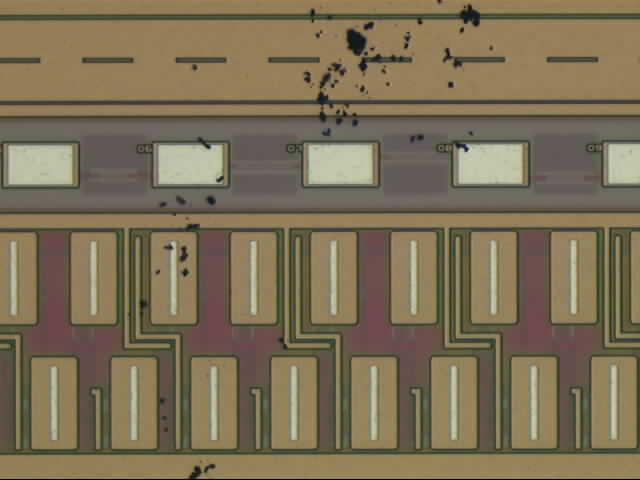PO CONTAMINATION: (125, 1, 497, 480)
